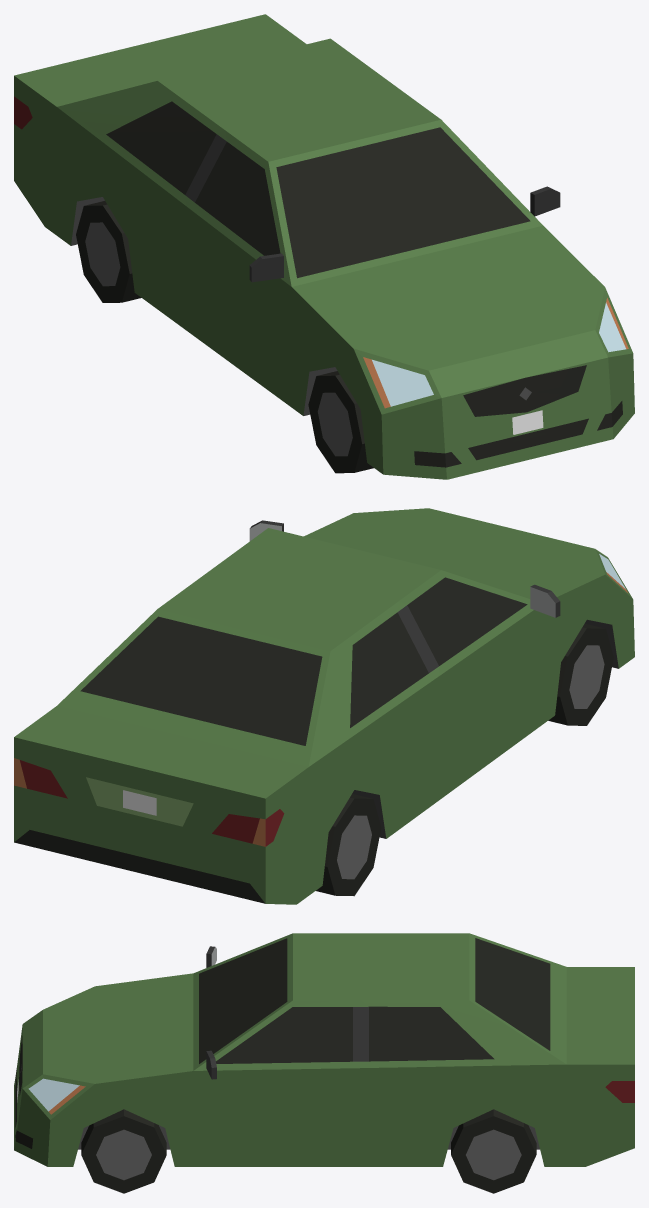
Rendered from Veh_Sedan_03_Green.glb.
3 views of the same model, one above another, from view 1: azimuth 30°, elevation 25°; view 2: azimuth 150°, elevation 25°; view 3: azimuth 270°, elevation 25° (orthographic). The views are drawn at different scales.
Visible parts, largest first — view 1: Sedan_03_Green, Wheel_FR, Wheel_RR; view 2: Sedan_03_Green, Wheel_FR, Wheel_RR; view 3: Sedan_03_Green, Wheel_RL, Wheel_FL.
Boxes of the visible parts, <box> form: Sedan_03_Green: <box>14,14,634,479</box>; Wheel_FR: <box>308,371,373,473</box>; Wheel_RR: <box>76,201,141,302</box>; Sedan_03_Green: <box>14,508,634,904</box>; Wheel_FR: <box>548,623,613,725</box>; Wheel_RR: <box>316,793,381,896</box>; Sedan_03_Green: <box>14,933,634,1166</box>; Wheel_RL: <box>451,1109,536,1193</box>; Wheel_FL: <box>81,1109,166,1193</box>.
Bounding box in the file's own units: 1.19 × 0.8272 × 2.61.
Materials: 1 (1 with a texture image).
